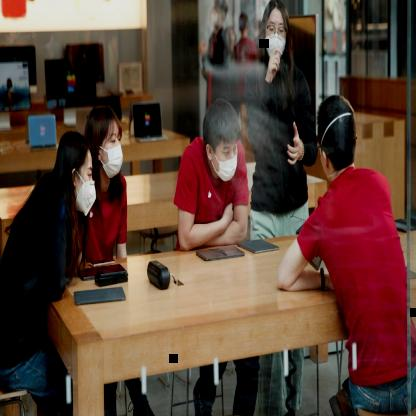mask: (200, 88, 246, 188), (55, 128, 98, 222), (85, 95, 127, 185), (258, 0, 294, 74)
